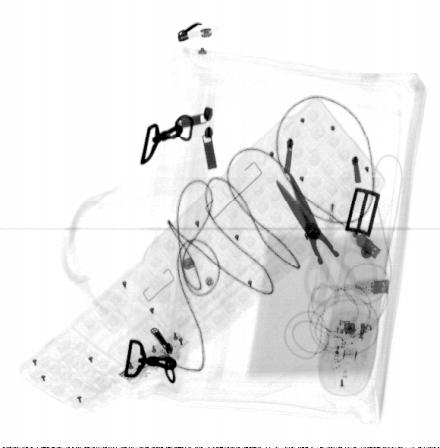Scissors: (277, 170, 378, 306)
